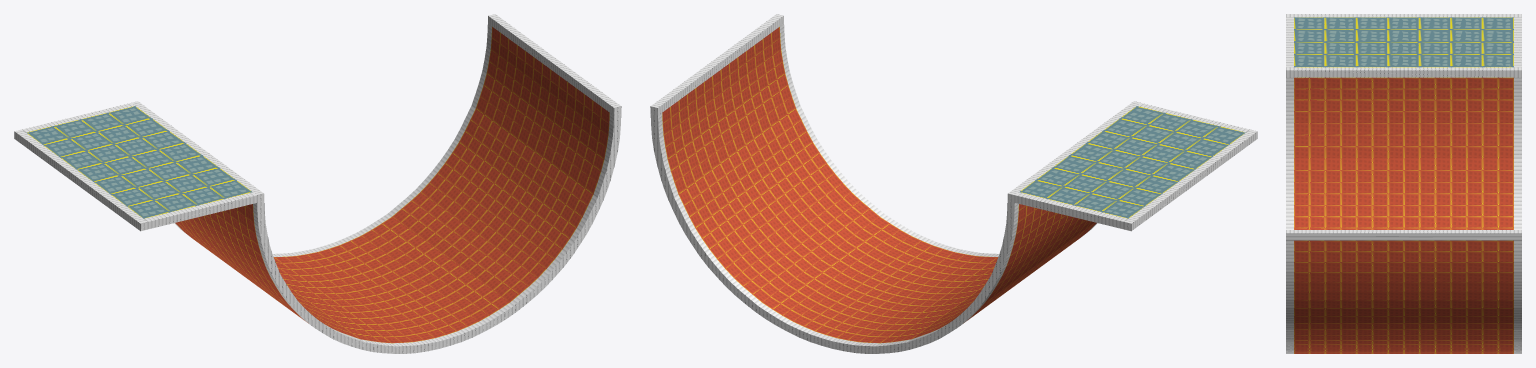
Rendered from half-pipe0.dae.
3 views of the same model, side by side, from view 1: azimuth 30°, elevation 25°; view 2: azimuth 150°, elevation 25°; view 3: azimuth 270°, elevation 25° (orthographic). The views are drawn at different scales.
Visible parts, largest first — view 1: half-pipe0; view 2: half-pipe0; view 3: half-pipe0.
Boxes of the visible parts, bbox=[...] form: half-pipe0: bbox=[14, 14, 621, 353]; half-pipe0: bbox=[650, 14, 1257, 353]; half-pipe0: bbox=[1286, 14, 1521, 353].
Size of the model in its own units: 33.02 by 15 by 13.
